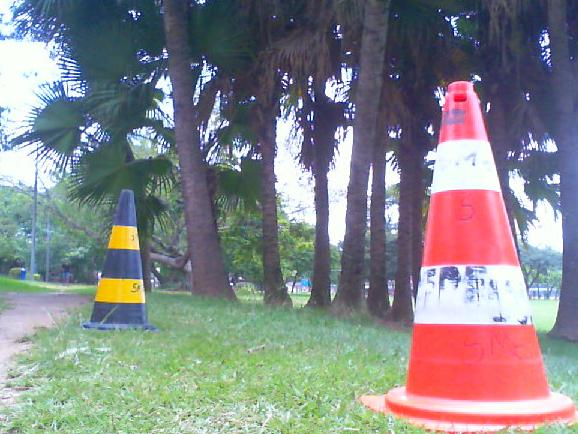0 cone: (361, 82, 578, 430), (81, 190, 156, 331)
